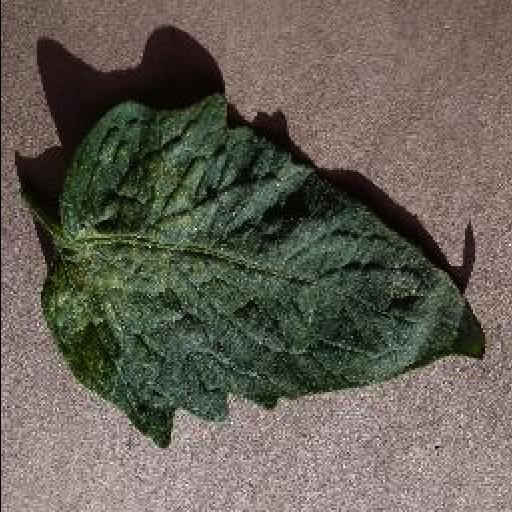disease_tomato: (42, 94, 486, 450)
